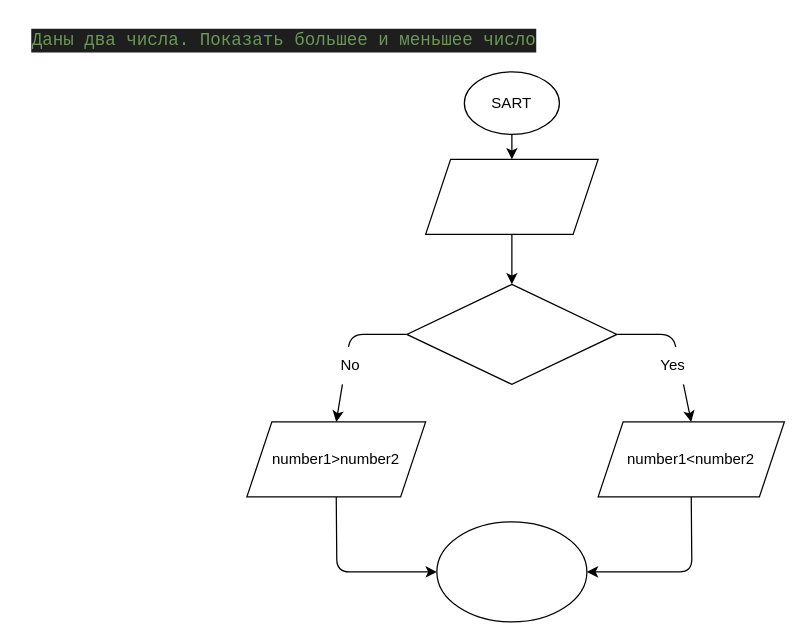
Image size: 806x644. Some labels were removed from this diagram. Here are the shapes that lost their labels. From the top down, the centre of each, then its label:
(511,196): number1, number2
(511,333): number1 > number2
(511,571): End
